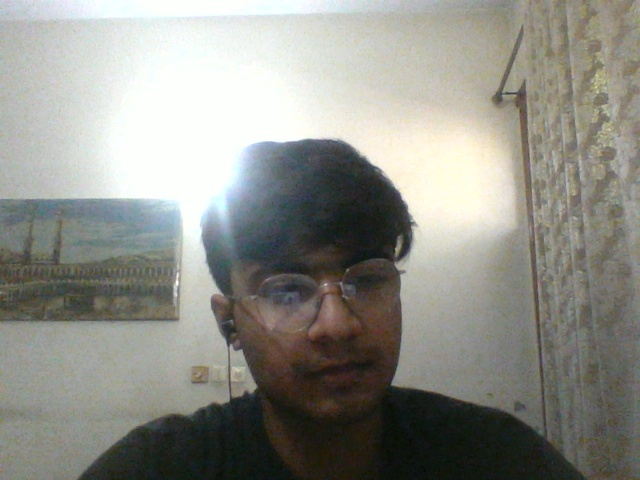neutral: (246, 250, 404, 433)
